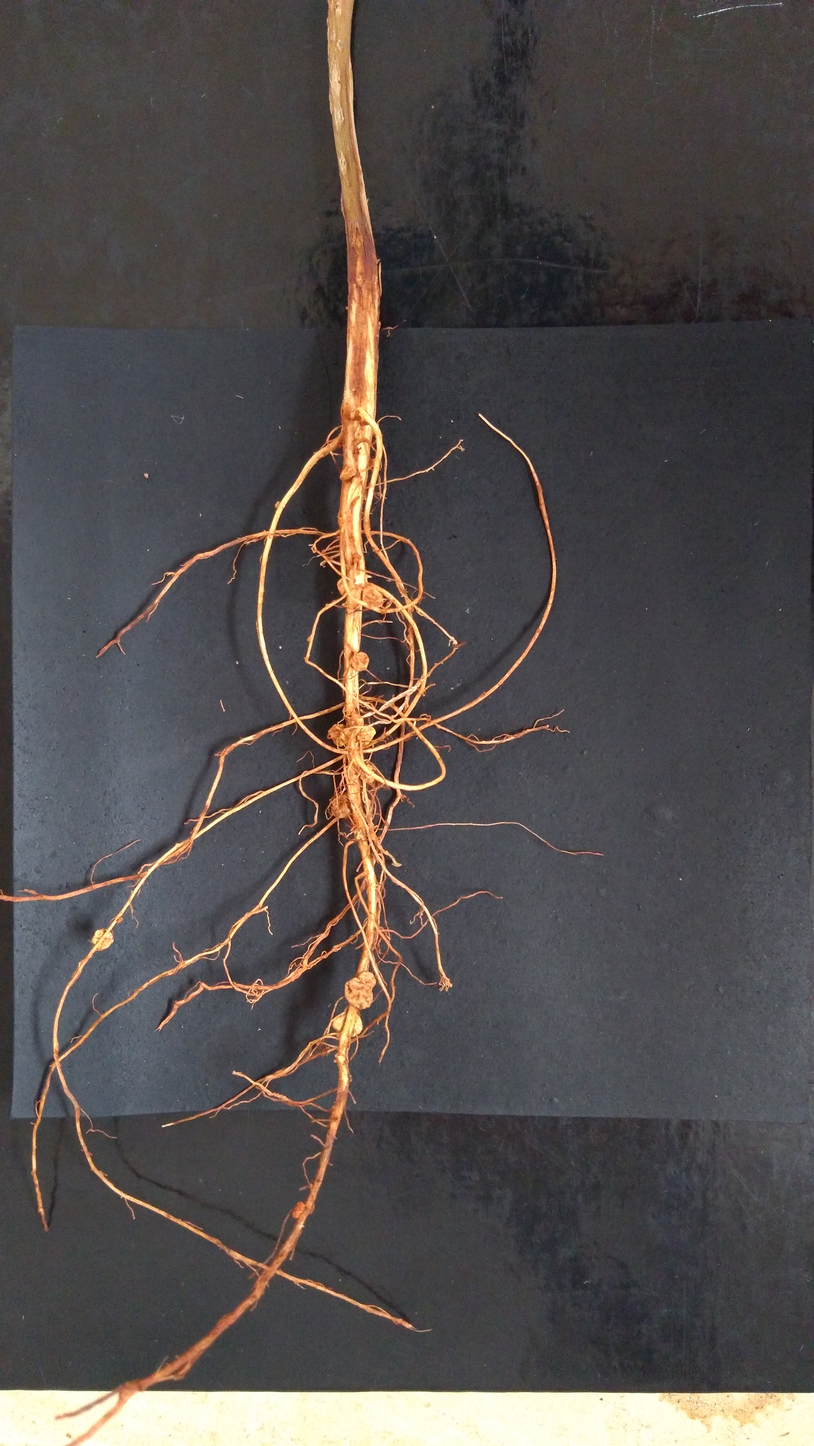nodule: (344, 977, 374, 1009), (331, 1009, 363, 1037), (362, 585, 384, 610), (331, 792, 351, 819), (91, 927, 114, 950), (356, 722, 376, 745), (329, 723, 348, 747), (350, 652, 370, 672), (360, 762, 376, 784), (346, 588, 360, 613), (358, 971, 376, 989), (339, 465, 357, 481), (336, 577, 349, 596), (292, 1201, 305, 1219), (367, 458, 383, 471), (351, 712, 364, 728), (351, 552, 362, 563), (360, 417, 370, 427), (115, 916, 123, 924), (337, 517, 343, 526), (274, 501, 281, 508)
